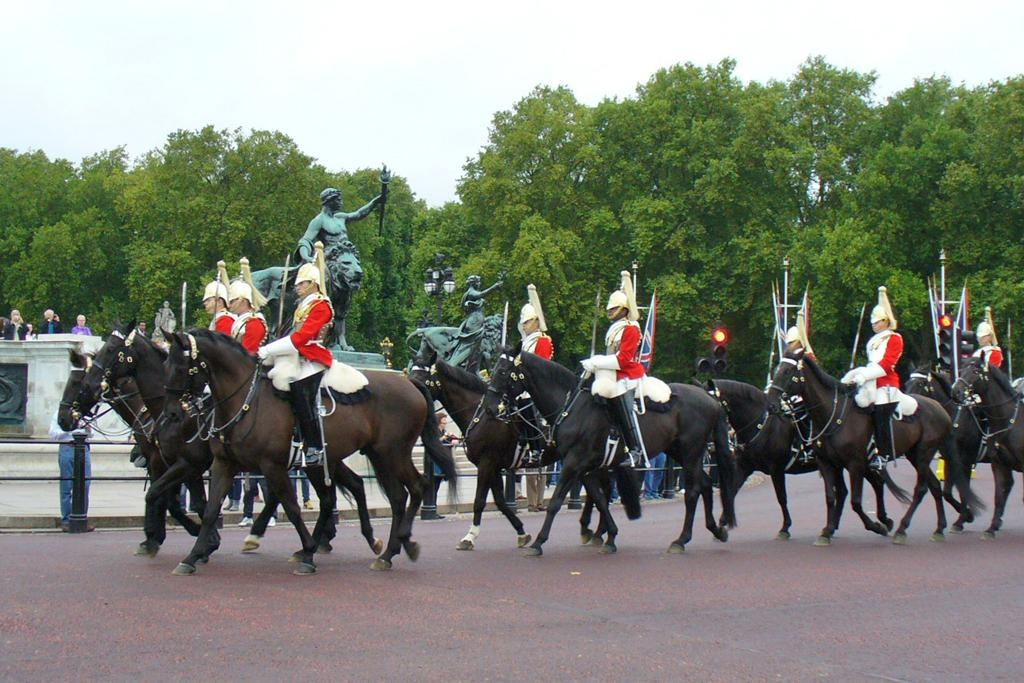human_face: (228, 290, 244, 312), (605, 300, 623, 318), (203, 293, 219, 313), (296, 276, 312, 294), (521, 315, 535, 333), (870, 314, 884, 330), (976, 331, 990, 345), (329, 194, 343, 208), (786, 334, 798, 347), (77, 317, 85, 325), (474, 278, 480, 288), (139, 323, 145, 331), (46, 312, 52, 320), (12, 312, 18, 320)
